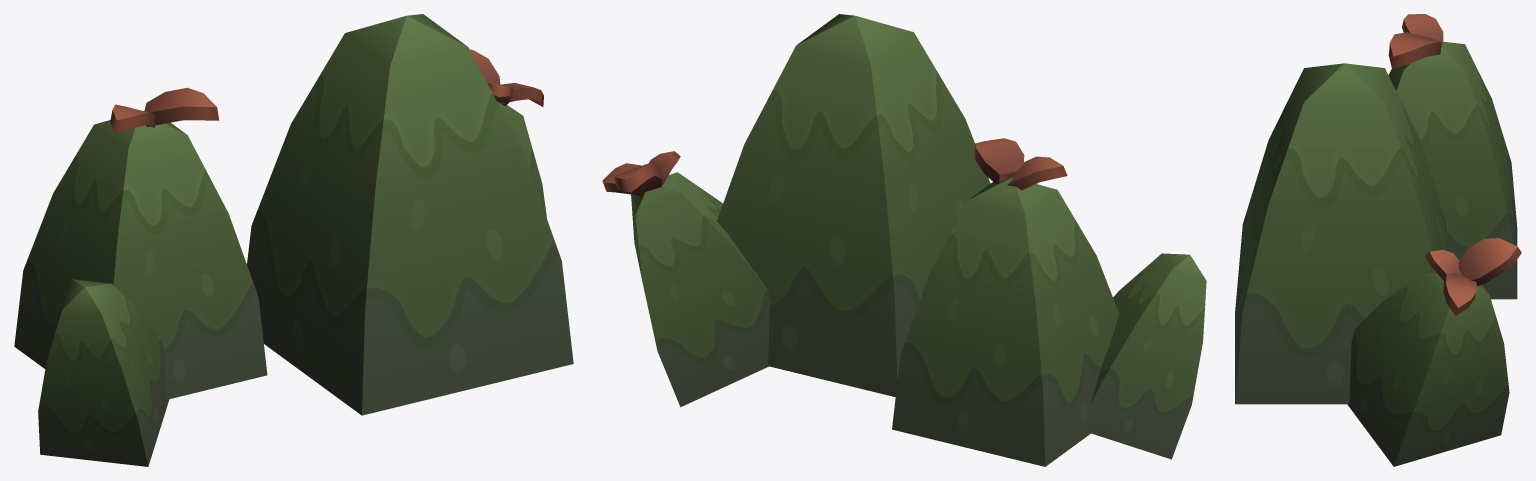
The model's file is BG_062_cactus.FBX.
The picture shows the model from 3 angles, left to right: view 1: azimuth 30°, elevation 25°; view 2: azimuth 150°, elevation 25°; view 3: azimuth 270°, elevation 25°; orthographic projection. The views are drawn at different scales.
Visible parts, largest first — view 1: BG_062_cactus; view 2: BG_062_cactus; view 3: BG_062_cactus.
Part boxes in pixels (x1,y1,x2,y2): BG_062_cactus: (14,14,573,466); BG_062_cactus: (602,14,1206,466); BG_062_cactus: (1235,14,1521,466).
Bounding box in the file's own units: 228 × 143 × 112.
